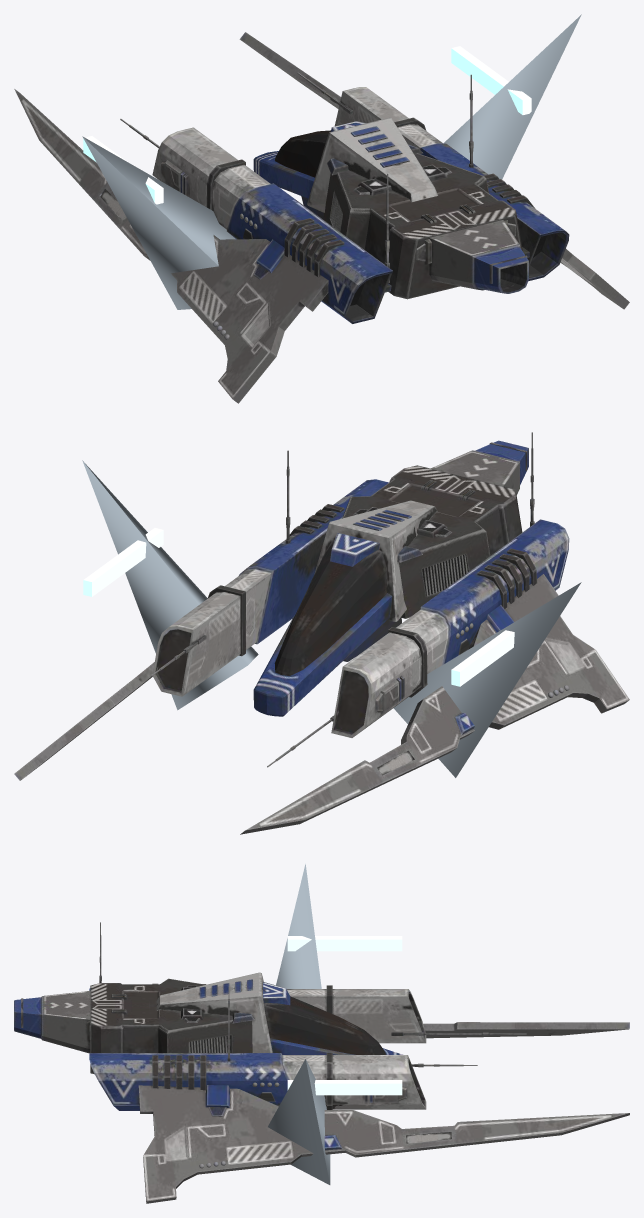
The model's file is player_intercepteur.glb.
3 views of the same model, one above another, from view 1: azimuth 30°, elevation 25°; view 2: azimuth 150°, elevation 25°; view 3: azimuth 270°, elevation 25° (orthographic). The views are drawn at different scales.
Visible parts, largest first — view 1: player_intercepteur; view 2: player_intercepteur; view 3: player_intercepteur.
Part boxes in pixels (x1,y1,x2,y2): player_intercepteur: (14,14,629,403); player_intercepteur: (14,432,629,834); player_intercepteur: (14,864,629,1203).
Bounding box in the file's own units: 1.41 × 0.608 × 1.88.
3 materials, 1 textured.
